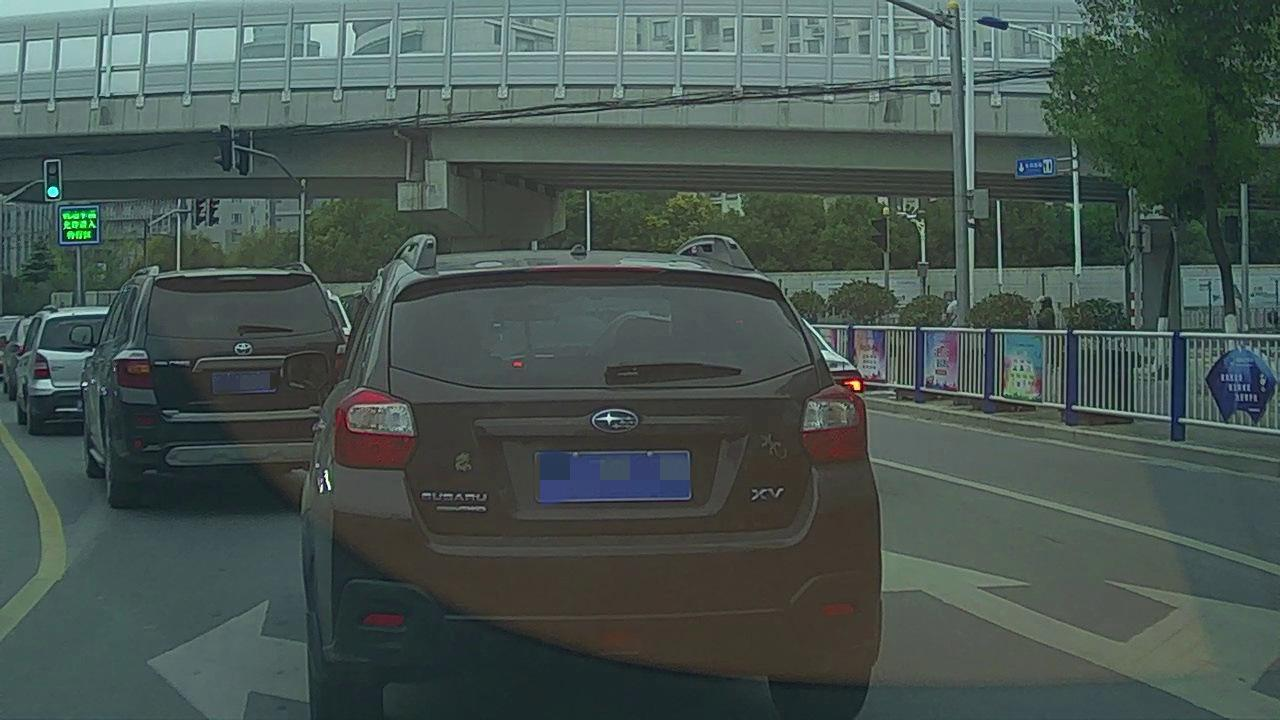traffic_light: (45, 162, 60, 199)
